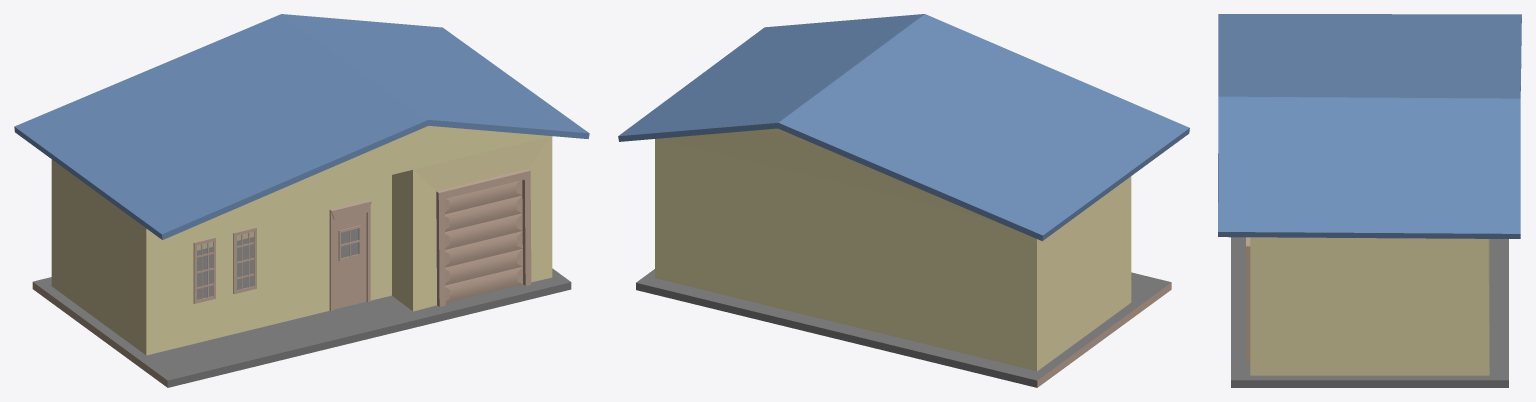
File: Residential_low.fbx
3 renders of one model, left to right at view 1: azimuth 30°, elevation 25°; view 2: azimuth 150°, elevation 25°; view 3: azimuth 270°, elevation 25°, orthographic. The views are drawn at different scales.
Visible parts, largest first — view 1: Cube; view 2: Cube; view 3: Cube.
Boxes of the visible parts, x1=… form: Cube: x1=14, y1=14, x2=589, y2=387; Cube: x1=618, y1=14, x2=1189, y2=387; Cube: x1=1218, y1=14, x2=1521, y2=387.
Size of the model in its own units: 1579 by 742 by 944.
